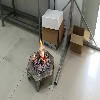fire: (40, 38, 48, 63), (32, 54, 35, 62)
